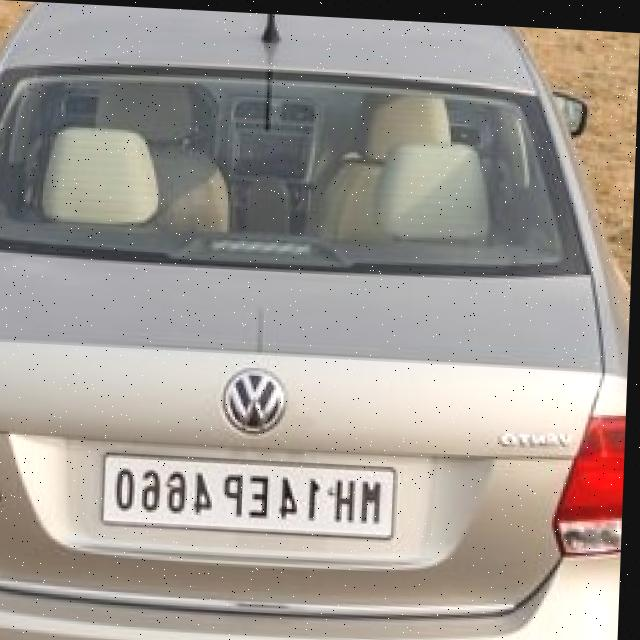plate: (105, 448, 405, 537)
